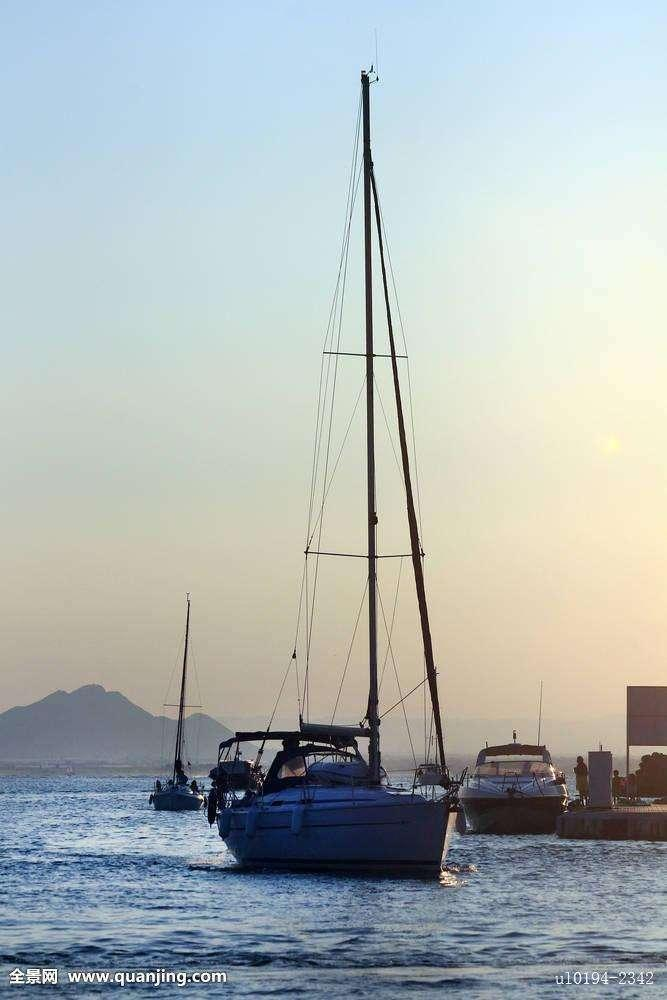fanchuan: (205, 61, 541, 877)
otherboat: (456, 734, 588, 834)
